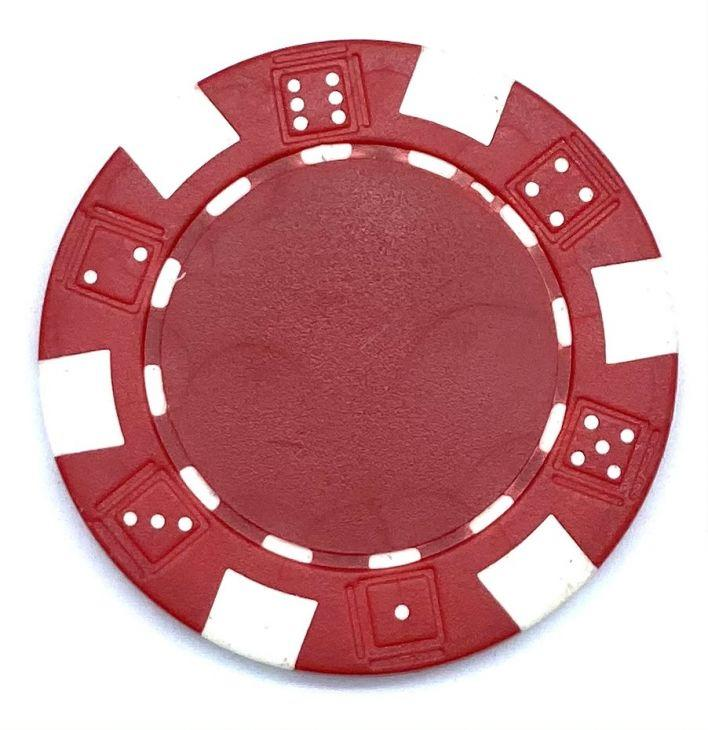chip-red: (40, 40, 677, 674)
